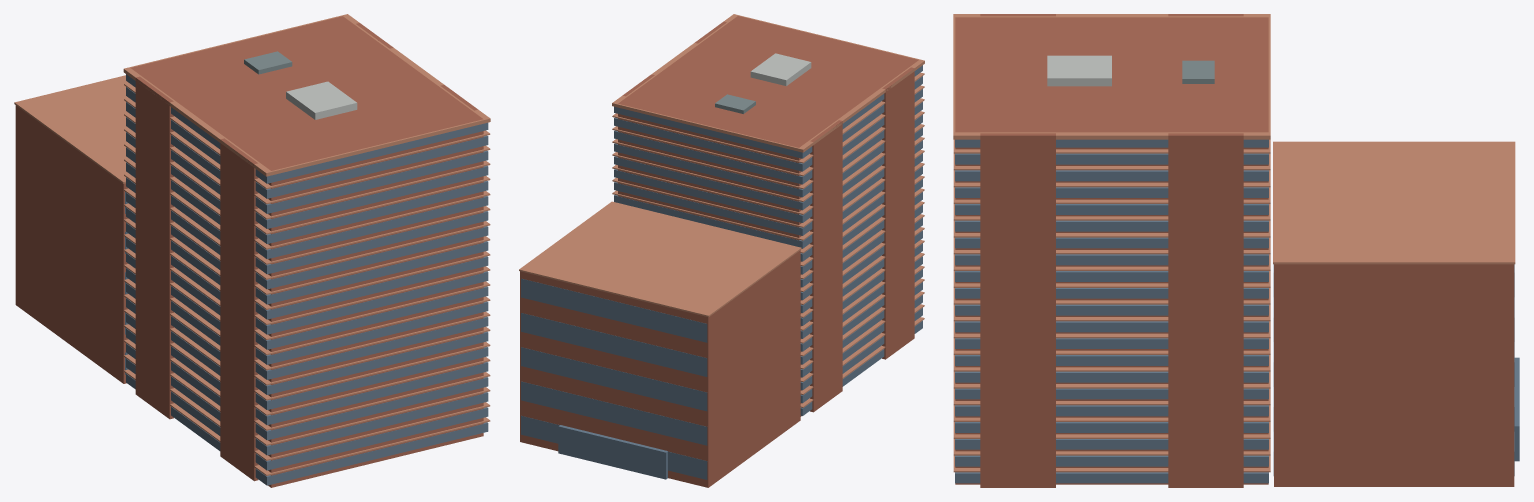
File: hospital.glb
3 renders of one model, left to right at view 1: azimuth 30°, elevation 25°; view 2: azimuth 150°, elevation 25°; view 3: azimuth 270°, elevation 25°, orthographic. The views are drawn at different scales.
Parts seen in each view (by area): view 1: wall, glass, trim, roof, metal; view 2: wall, glass, trim, roof, metal; view 3: wall, trim, glass, roof, metal.
Boxes of the visible parts, box(x1,y1,x2,y2) form: wall: box(15, 16, 483, 487); glass: box(125, 74, 488, 485); trim: box(14, 14, 490, 475); roof: box(286, 81, 357, 119); metal: box(244, 51, 292, 74); wall: box(520, 16, 918, 487); glass: box(521, 65, 922, 479); trim: box(519, 14, 924, 407); roof: box(750, 53, 811, 86); metal: box(715, 94, 755, 113); wall: box(955, 14, 1514, 487); trim: box(953, 14, 1515, 472); glass: box(955, 139, 1519, 483); roof: box(1047, 55, 1111, 86); metal: box(1182, 60, 1214, 83).
Size of the model in its own units: 53.3 by 73.6 by 105.
